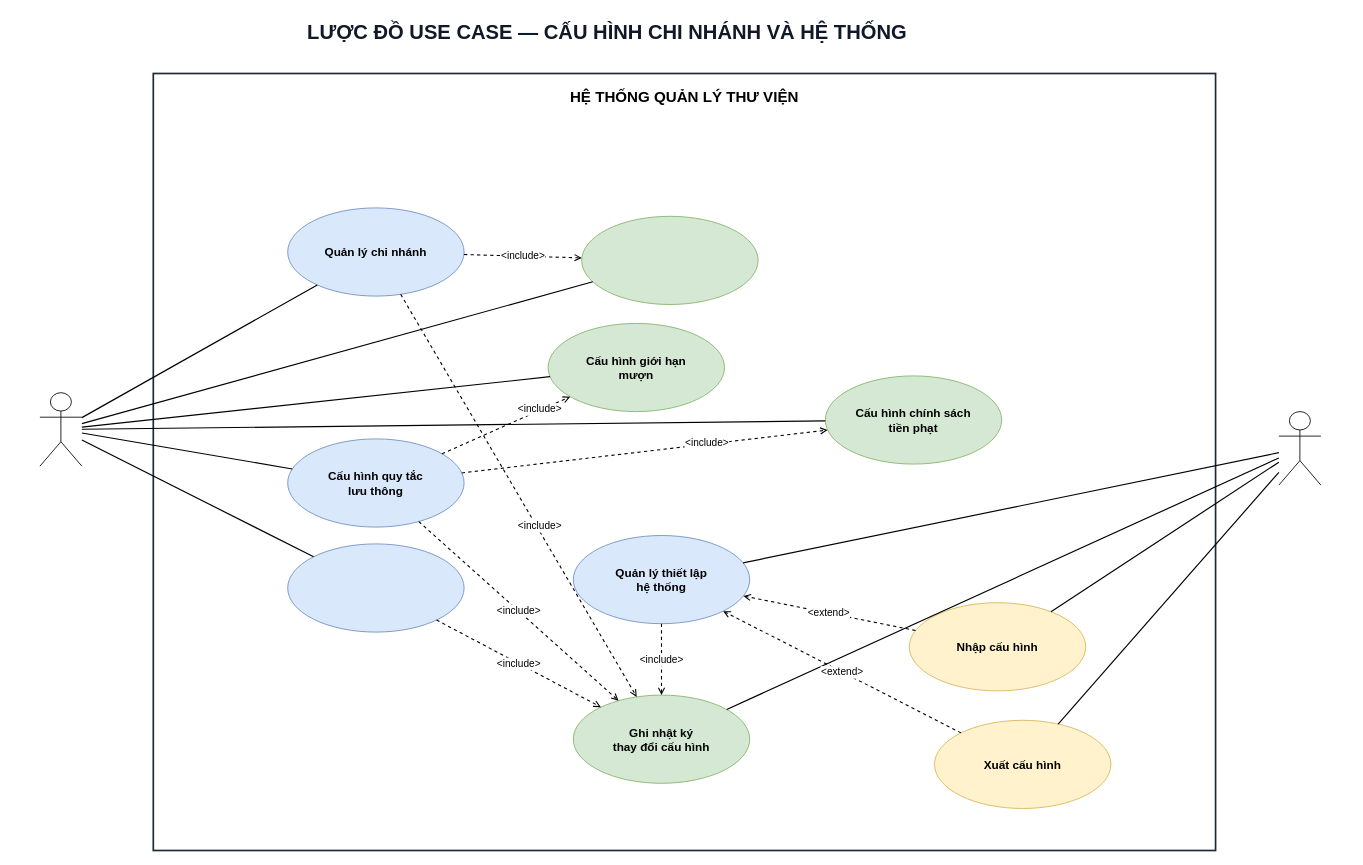
This 1363x865 diagram has some shape labels left out. Each missing label, with the centre of its shape:
Cấu hình thông báo: pixel 375 587
Quản lý khu vực và kệ sách: pixel 669 259
Quản lý thư viện: pixel 60 429
Quản trị hệ thống: pixel 1299 448
